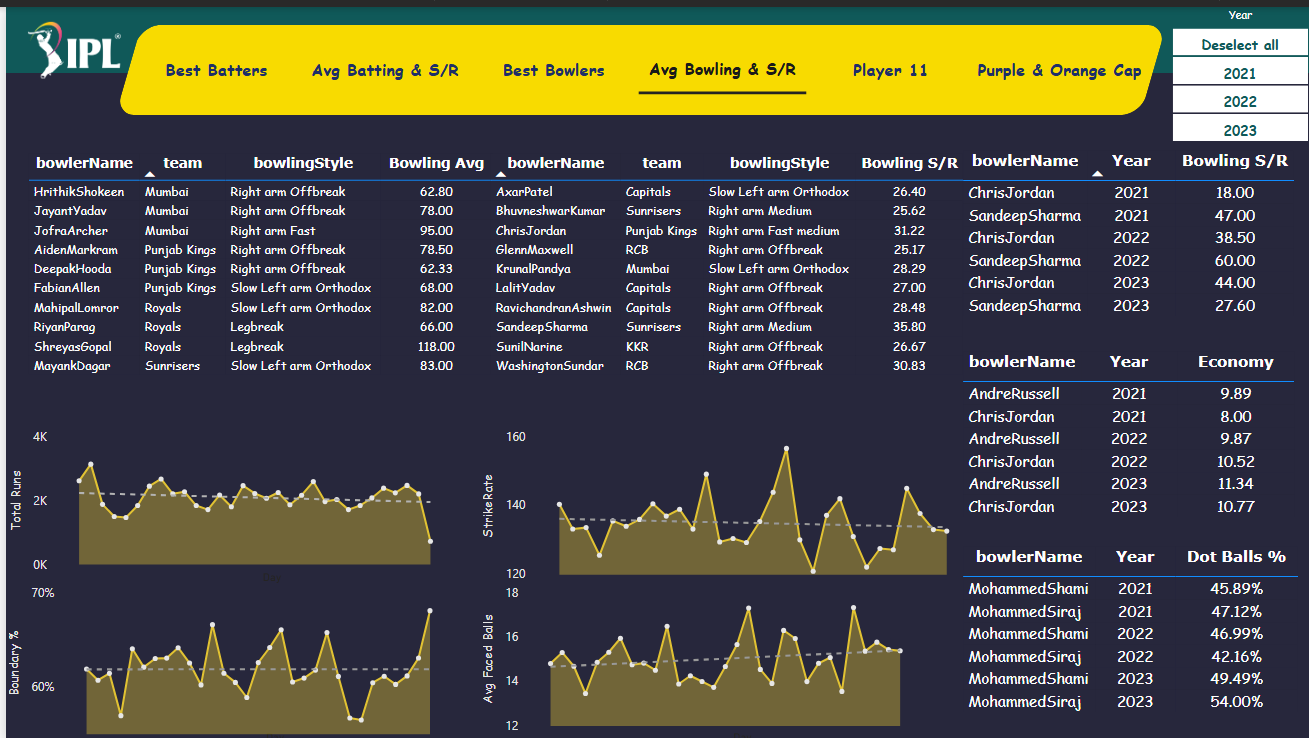

This screenshot's page, from the dashboard's own definition file:
{"tool":"powerbi","page":{"name":"Avg Bowling & S/R","canvas":[1280,720],"ordinal":3},"visuals":[{"type":"shape","box":[0,64.6,1280.5,655.2],"z":0},{"type":"shape","box":[107.1,17.6,1028.7,88],"z":1000},{"type":"image","box":[15.8,6.3,100.8,72.5],"z":2000},{"type":"advancedSlicerVisual","fields":{"Values":["dim_match_summary.matchdate.Variation.Date Hierarchy.Year"]},"box":[1135.8,0,143.8,137.9],"z":3000},{"type":"tableEx","fields":{"Values":["fact_bowling_summary.bowlerName","dim_players.team","dim_players.bowlingStyle","All_Measures.Bowling Avg"]},"box":[16.1,137.9,465.2,253.9],"z":4000},{"type":"lineChart","fields":{"Y":["All_Measures.Boundary %"],"Category":["dim_match_summary.matchdate.Variation.Date Hierarchy.Day"]},"box":[2.9,563,466.6,157],"z":5000},{"type":"lineChart","fields":{"Category":["dim_match_summary.matchdate.Variation.Date Hierarchy.Day"],"Y":["All_Measures.Total Runs"]},"box":[4.4,410.9,466.6,152.6],"z":6000},{"type":"lineChart","fields":{"Y":["All_Measures.Avg Faced Balls"],"Category":["dim_match_summary.matchdate.Variation.Date Hierarchy.Day"]},"box":[466.6,563.5,463.7,157],"z":7000},{"type":"lineChart","fields":{"Y":["All_Measures.StrikeRate"],"Category":["dim_match_summary.matchdate.Variation.Date Hierarchy.Day"]},"box":[466.6,410.9,463.7,152.6],"z":8000},{"type":"tableEx","fields":{"Values":["fact_bowling_summary.bowlerName","dim_match_summary.matchdate.Variation.Date Hierarchy.Year","All_Measures.Dot Balls %"]},"box":[930.9,522.9,339,190.6],"z":9000},{"type":"tableEx","fields":{"Values":["fact_bowling_summary.bowlerName","dim_players.team","dim_players.bowlingStyle","All_Measures.Bowling S/R"]},"box":[468.1,137.9,476.9,272.9],"z":10000},{"type":"tableEx","fields":{"Values":["fact_bowling_summary.bowlerName","dim_match_summary.matchdate.Variation.Date Hierarchy.Year","All_Measures.Bowling S/R"]},"box":[930.5,134.9,339.6,190.8],"z":11000},{"type":"tableEx","fields":{"Values":["fact_bowling_summary.bowlerName","dim_match_summary.matchdate.Variation.Date Hierarchy.Year","All_Measures.Economy"]},"box":[930.3,331.6,339,189.3],"z":12000},{"type":"pageNavigator","box":[123.3,36.7,994.9,49.9],"z":13000}]}

Visuals, with their boxes in screenshot pixels (x1, y1, x2, y2), scaled from the page's 1280x720 canvas onto the 1309x738 screenshot:
shape: pyautogui.locateOnScreen(0, 66, 1308, 737)
shape: pyautogui.locateOnScreen(110, 18, 1162, 108)
image: pyautogui.locateOnScreen(16, 6, 119, 81)
advancedSlicerVisual - dim_match_summary.matchdate.Variation.Date Hierarchy.Year: pyautogui.locateOnScreen(1162, 0, 1308, 141)
tableEx - fact_bowling_summary.bowlerName x dim_players.team: pyautogui.locateOnScreen(16, 141, 492, 402)
lineChart - All_Measures.Boundary % x dim_match_summary.matchdate.Variation.Date Hierarchy.Day: pyautogui.locateOnScreen(3, 577, 480, 737)
lineChart - dim_match_summary.matchdate.Variation.Date Hierarchy.Day x All_Measures.Total Runs: pyautogui.locateOnScreen(4, 421, 482, 578)
lineChart - All_Measures.Avg Faced Balls x dim_match_summary.matchdate.Variation.Date Hierarchy.Day: pyautogui.locateOnScreen(477, 578, 951, 737)
lineChart - All_Measures.StrikeRate x dim_match_summary.matchdate.Variation.Date Hierarchy.Day: pyautogui.locateOnScreen(477, 421, 951, 578)
tableEx - fact_bowling_summary.bowlerName x dim_match_summary.matchdate.Variation.Date Hierarchy.Year: pyautogui.locateOnScreen(952, 536, 1299, 731)
tableEx - fact_bowling_summary.bowlerName x dim_players.team: pyautogui.locateOnScreen(479, 141, 966, 421)
tableEx - fact_bowling_summary.bowlerName x dim_match_summary.matchdate.Variation.Date Hierarchy.Year: pyautogui.locateOnScreen(952, 138, 1299, 334)
tableEx - fact_bowling_summary.bowlerName x dim_match_summary.matchdate.Variation.Date Hierarchy.Year: pyautogui.locateOnScreen(951, 340, 1298, 534)
pageNavigator: pyautogui.locateOnScreen(126, 38, 1144, 89)
